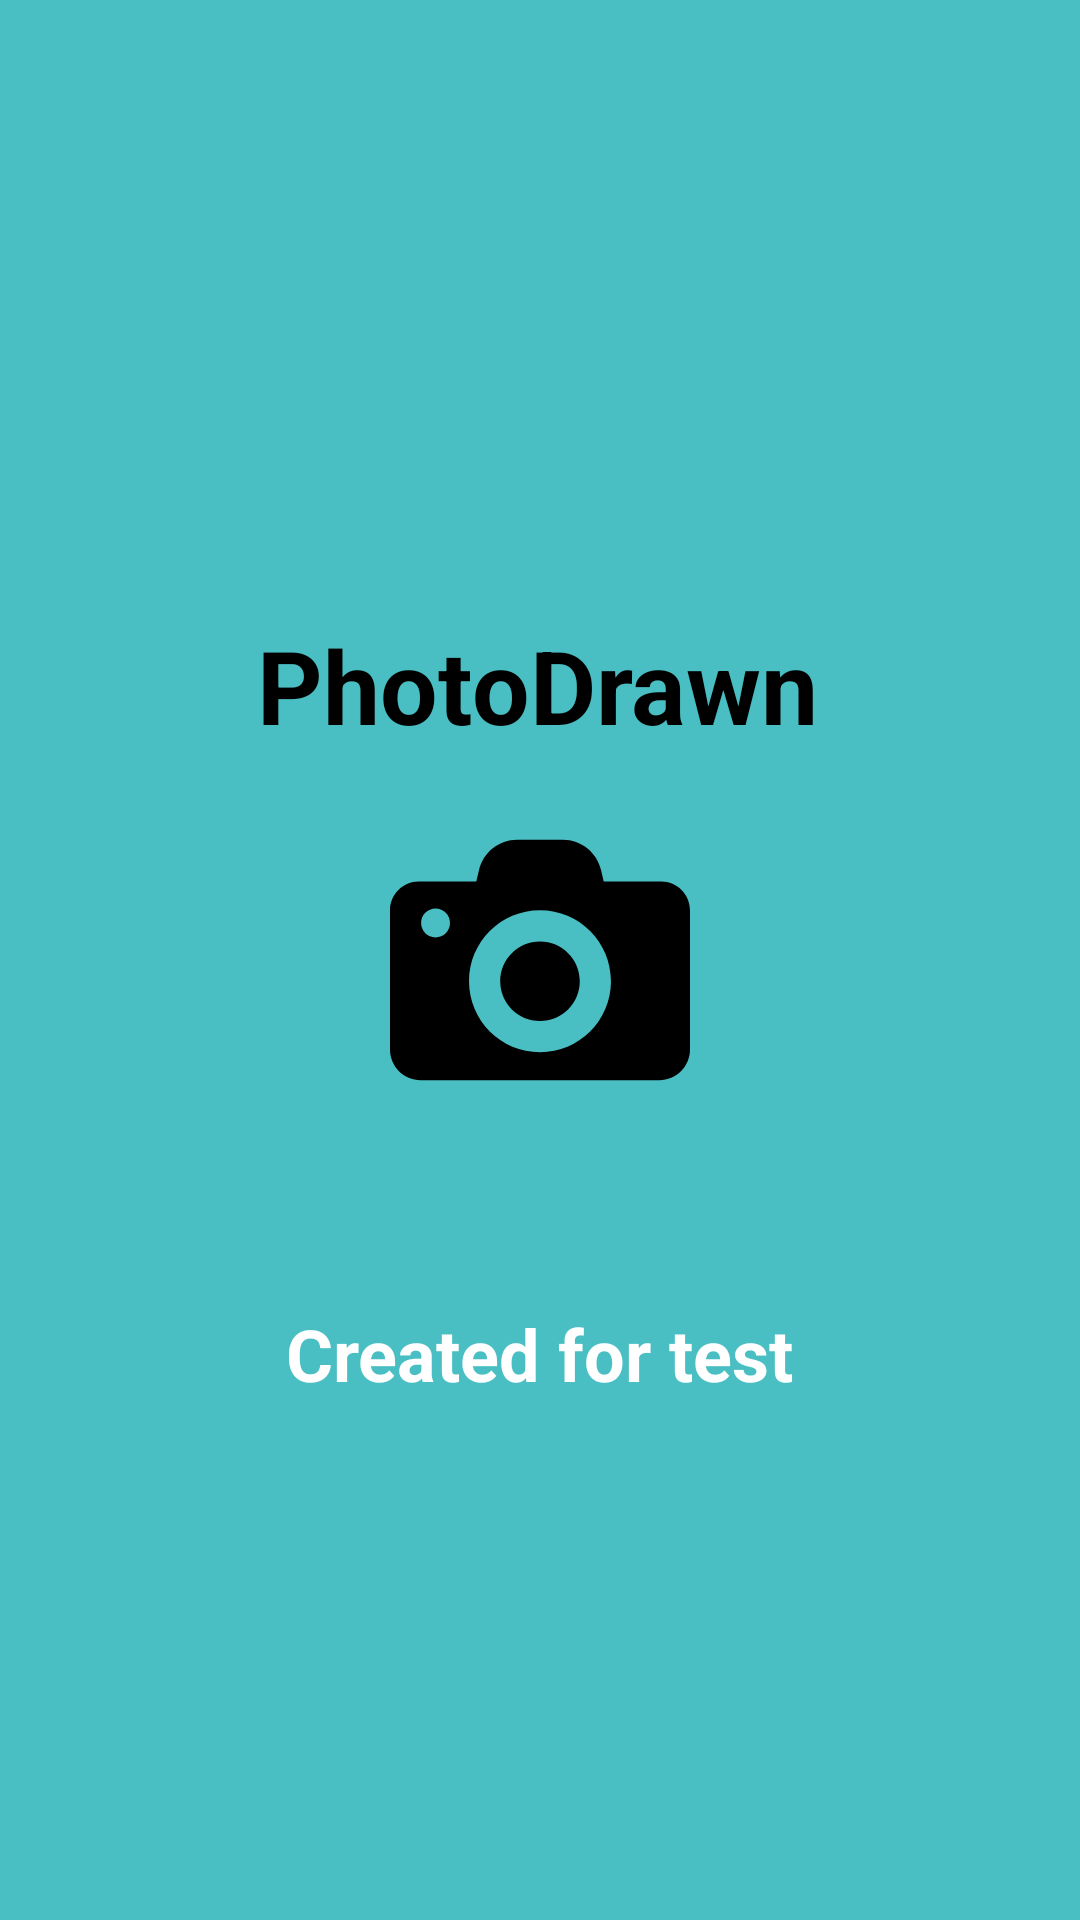

Screen size 1080*1920. Icon name, then its center in pixels as (x,y):
photo camera: (540,960)
